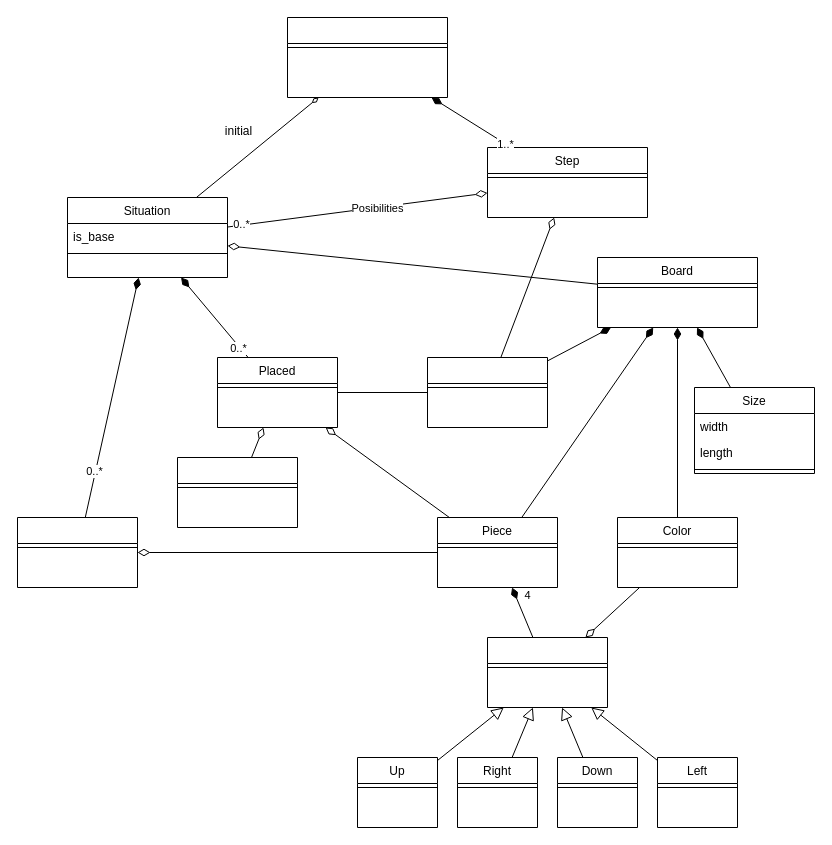
The diagram is 832 pixels wide and 845 high, and some of its shapes have lost their labels. The shapes that lost their labels are listed below. From the top down, each one's centre as x and y in pixels, then its label:
the point at 367,57: Way
the point at 487,392: Coordinate
the point at 237,492: Rotation
the point at 77,552: Remainder
the point at 547,672: Side
